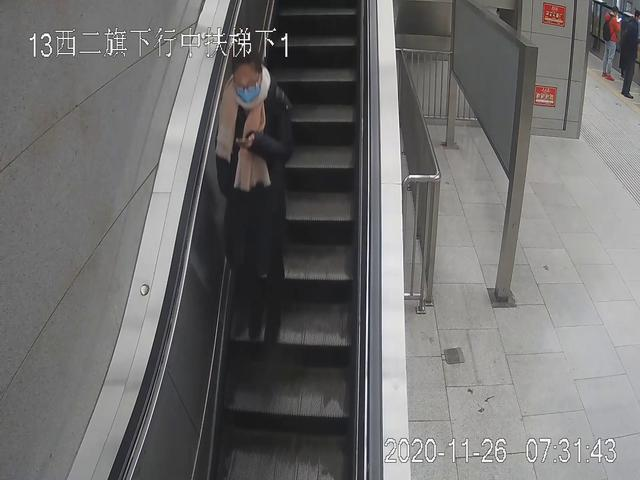person: (216, 53, 293, 340), (600, 6, 622, 82), (621, 12, 638, 99)
